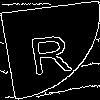R: (25, 25, 74, 76)
